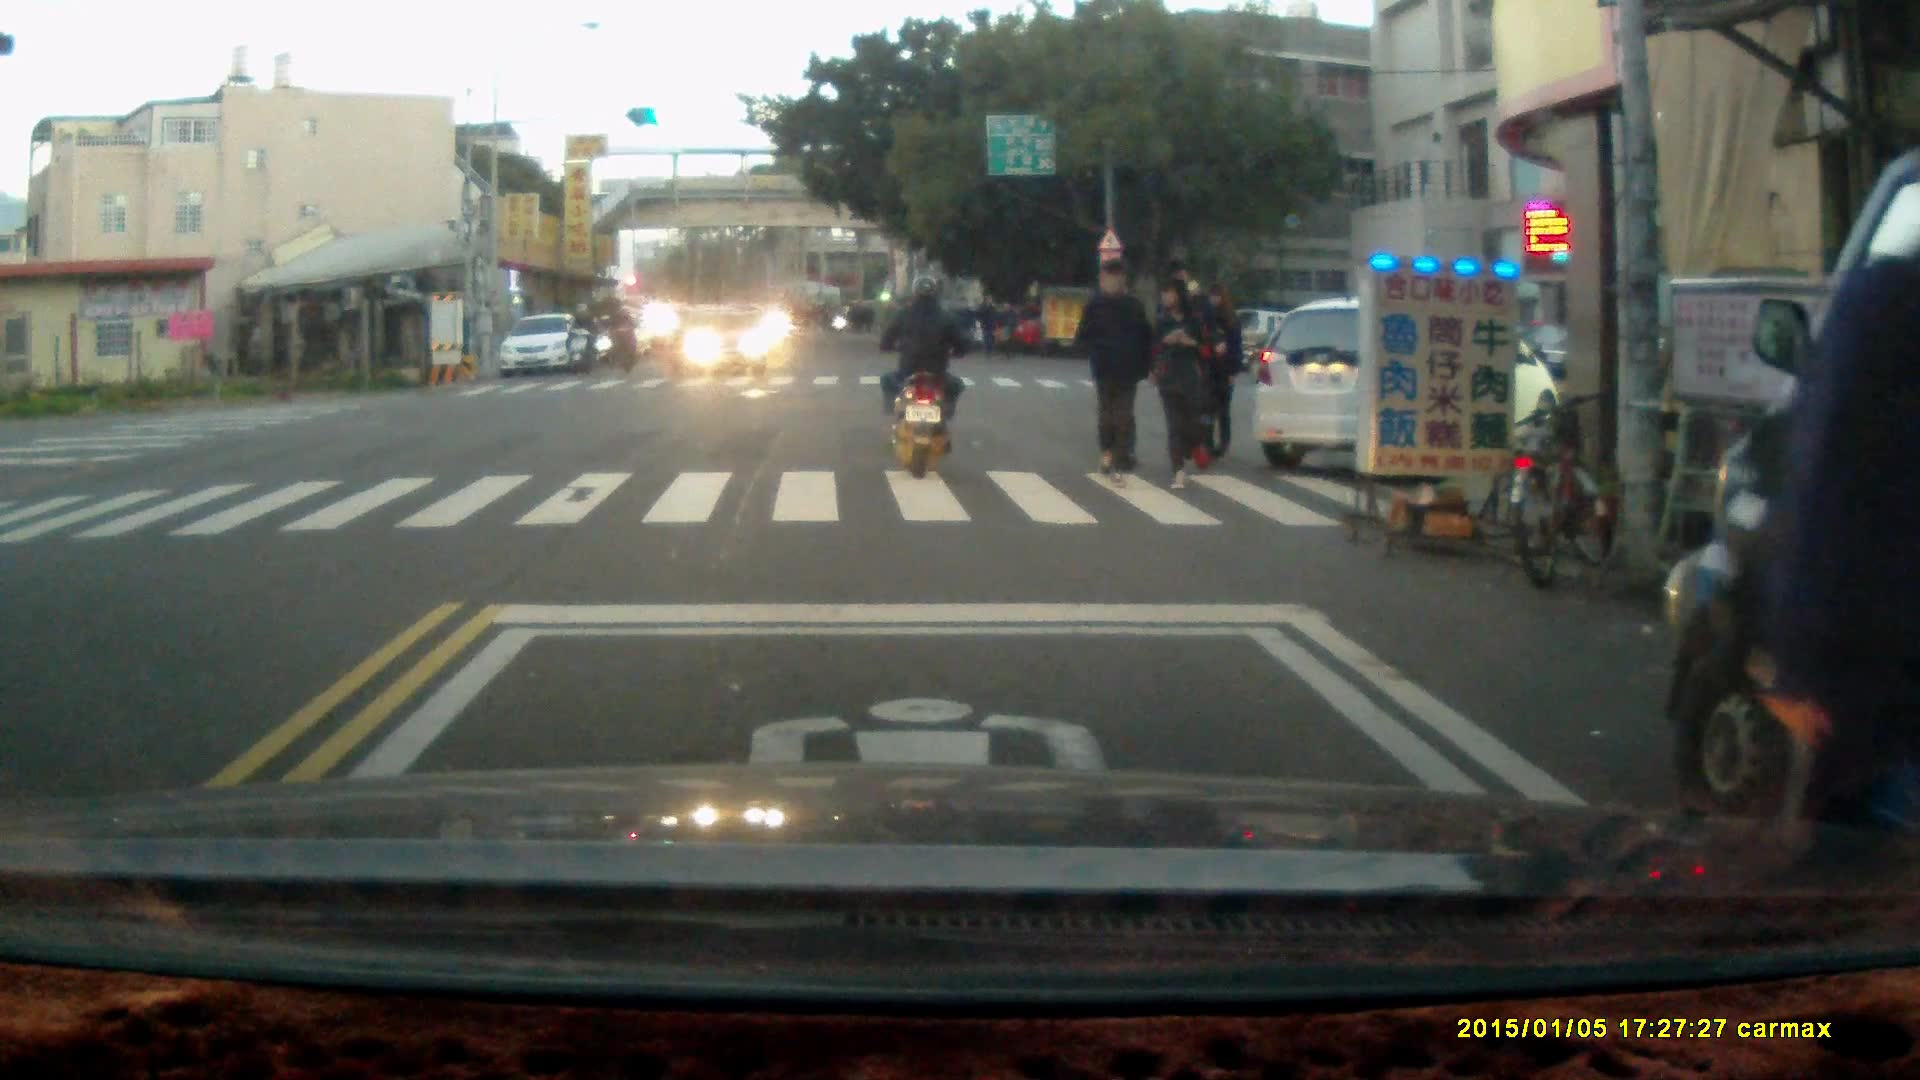pedestrian: (1733, 230, 1920, 892), (1073, 255, 1152, 487), (1149, 272, 1217, 490), (1200, 282, 1249, 463), (974, 289, 999, 363), (995, 297, 1019, 367)
rider: (880, 269, 969, 479), (564, 298, 595, 374), (607, 299, 638, 371)
vehicle: (1660, 151, 1920, 862), (1255, 303, 1565, 471), (664, 307, 774, 380), (504, 309, 597, 374)
